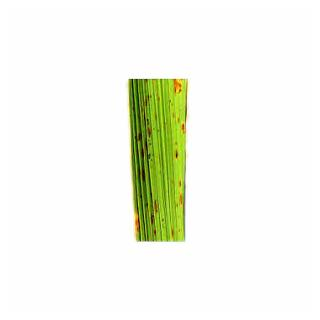Bercak-Cokelat-Sempit: (172, 78, 188, 97), (134, 212, 143, 238), (146, 197, 160, 213), (172, 140, 181, 162), (142, 93, 156, 107), (146, 122, 156, 136), (180, 118, 188, 134), (178, 192, 186, 207), (177, 180, 189, 188), (148, 214, 157, 224), (143, 150, 151, 160), (136, 135, 144, 142), (169, 230, 176, 238), (153, 228, 158, 234)
